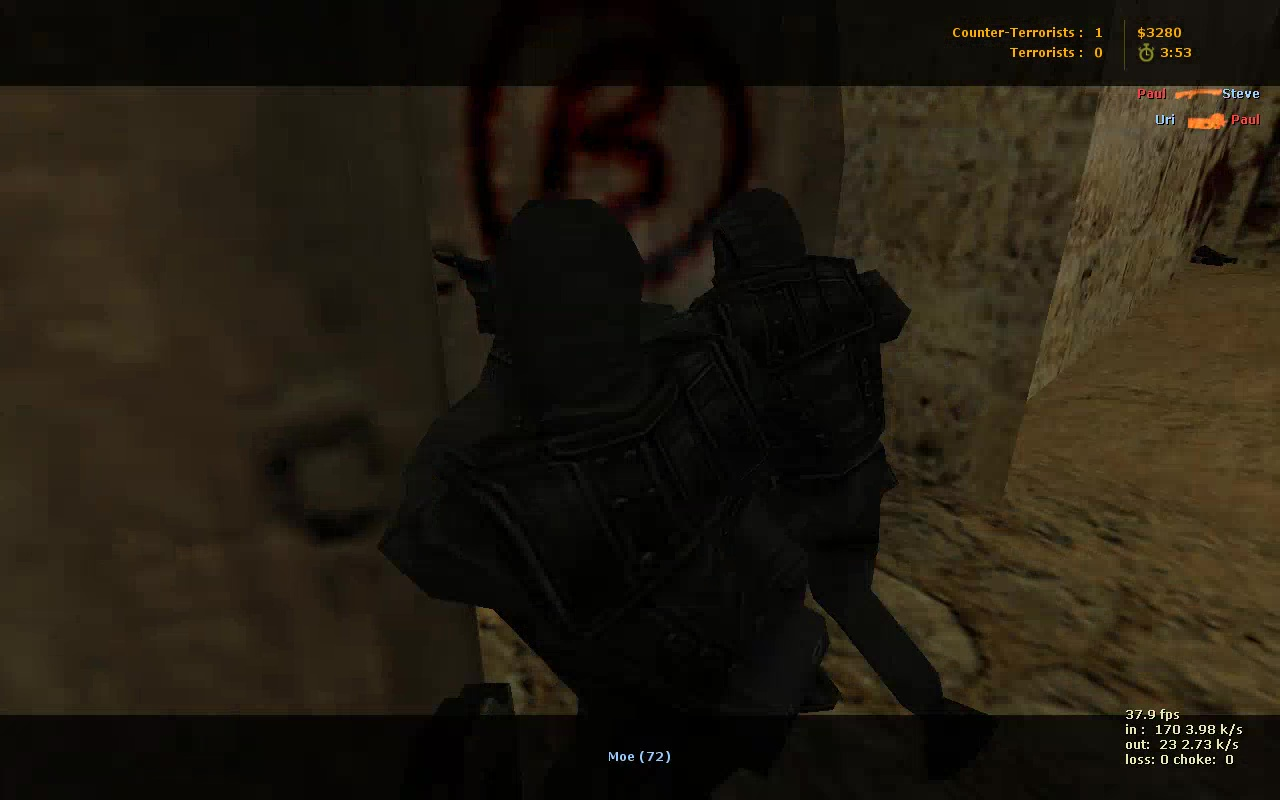ct: (649, 192, 979, 725)
